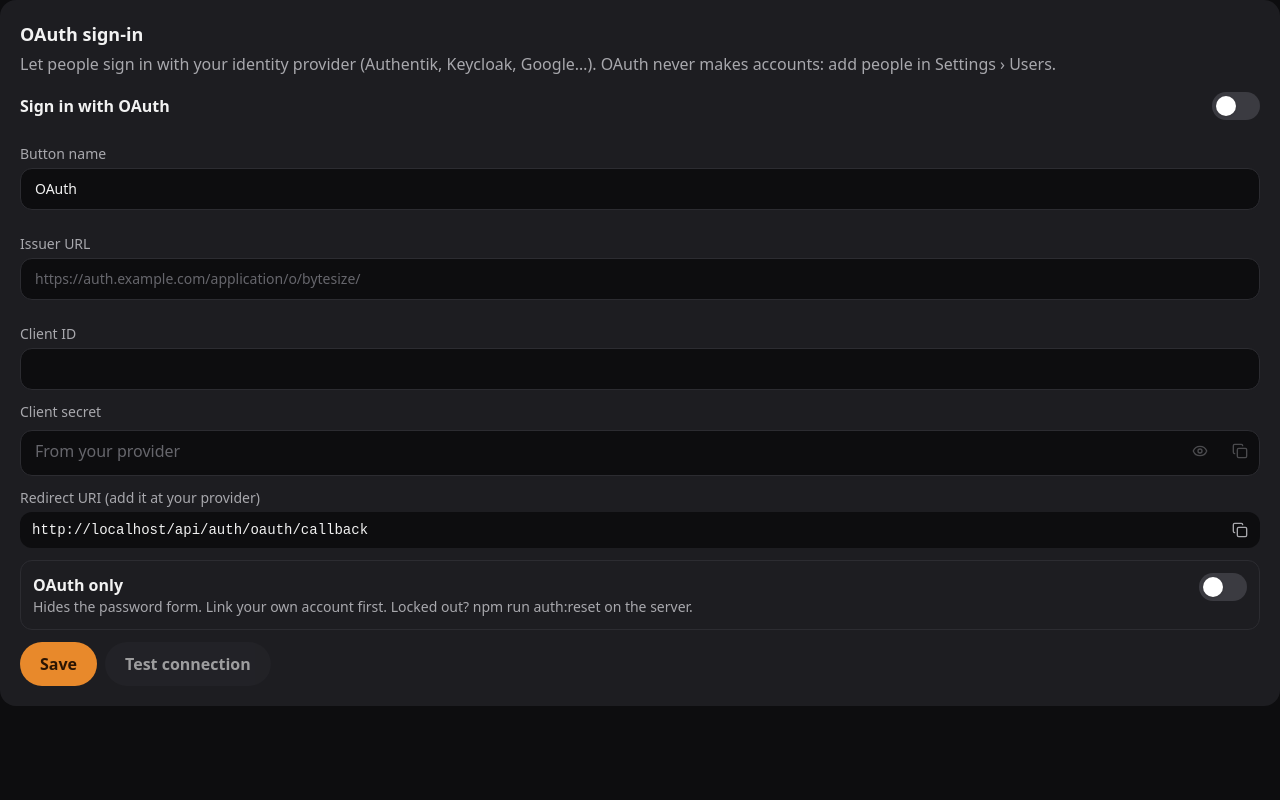
Test case: Settings › Security › OAuth sign-in (admin) › shows the redirect URI to copy, saves the provider, and tests the connection
The image size is (1280, 800).
Click the switch named "OAuth sign-in" at coordinates (1236, 106), box [1212,92,1260,120]
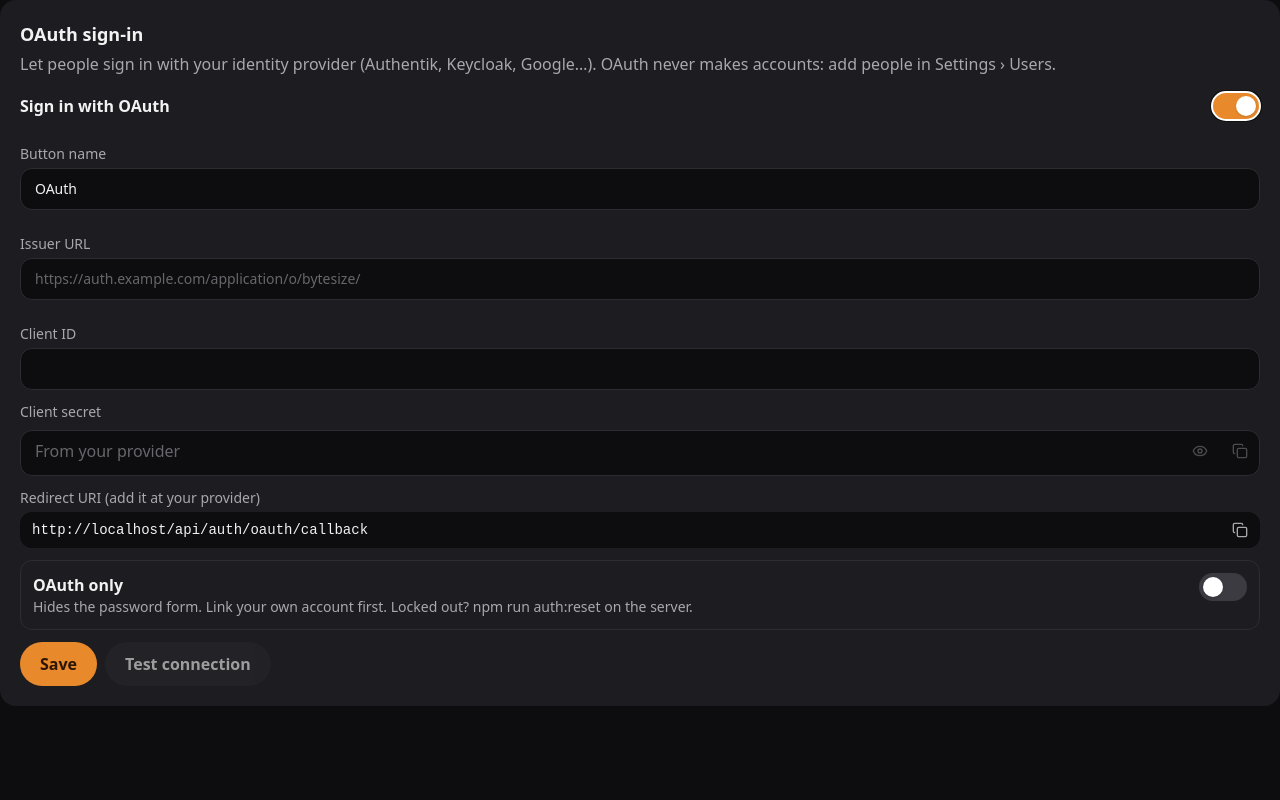
Replace the text in the field labelled "Button name" with "Authentik" at coordinates (640, 189), box [20,168,1260,210]
Type "https://auth.lan/application/o/bytesize/" into the field labelled "Issuer URL" at coordinates (640, 279), box [20,258,1260,300]
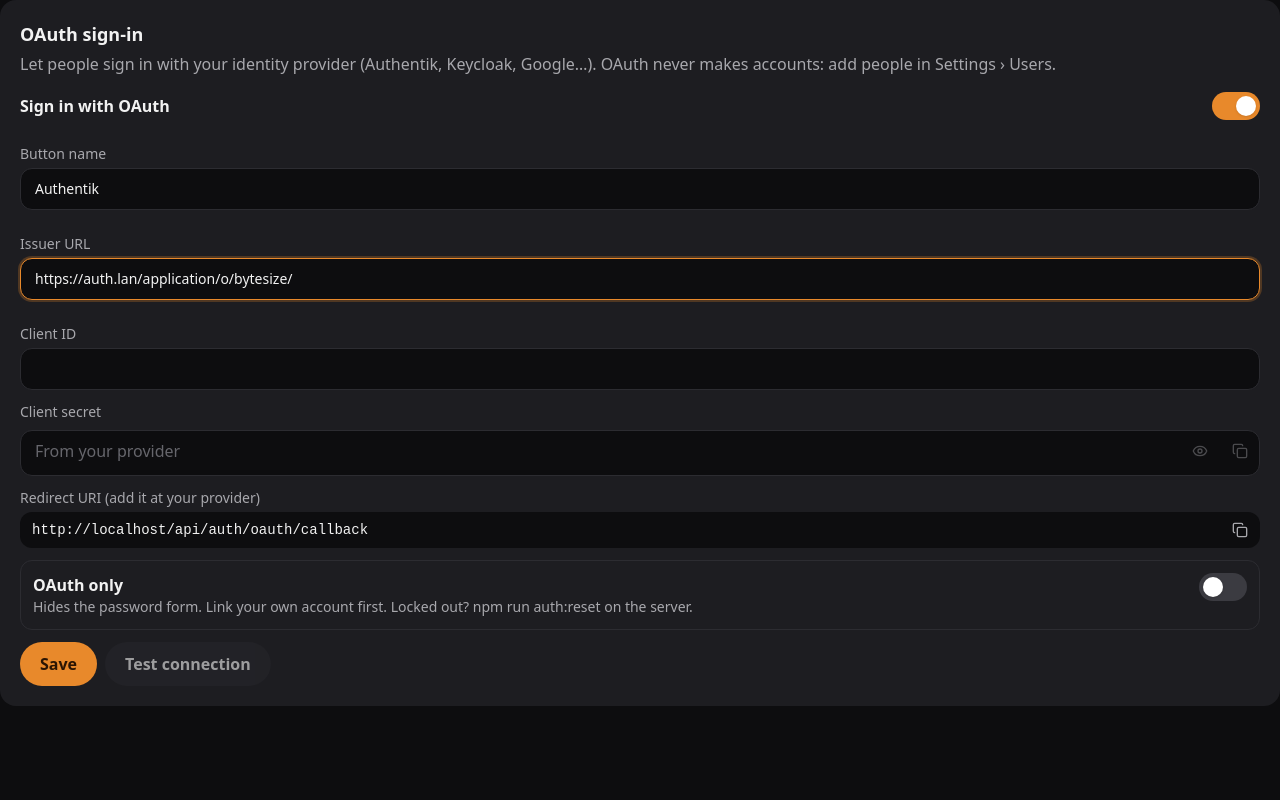
Type "bs-client" into the field labelled "Client ID" at coordinates (640, 369), box [20,348,1260,390]
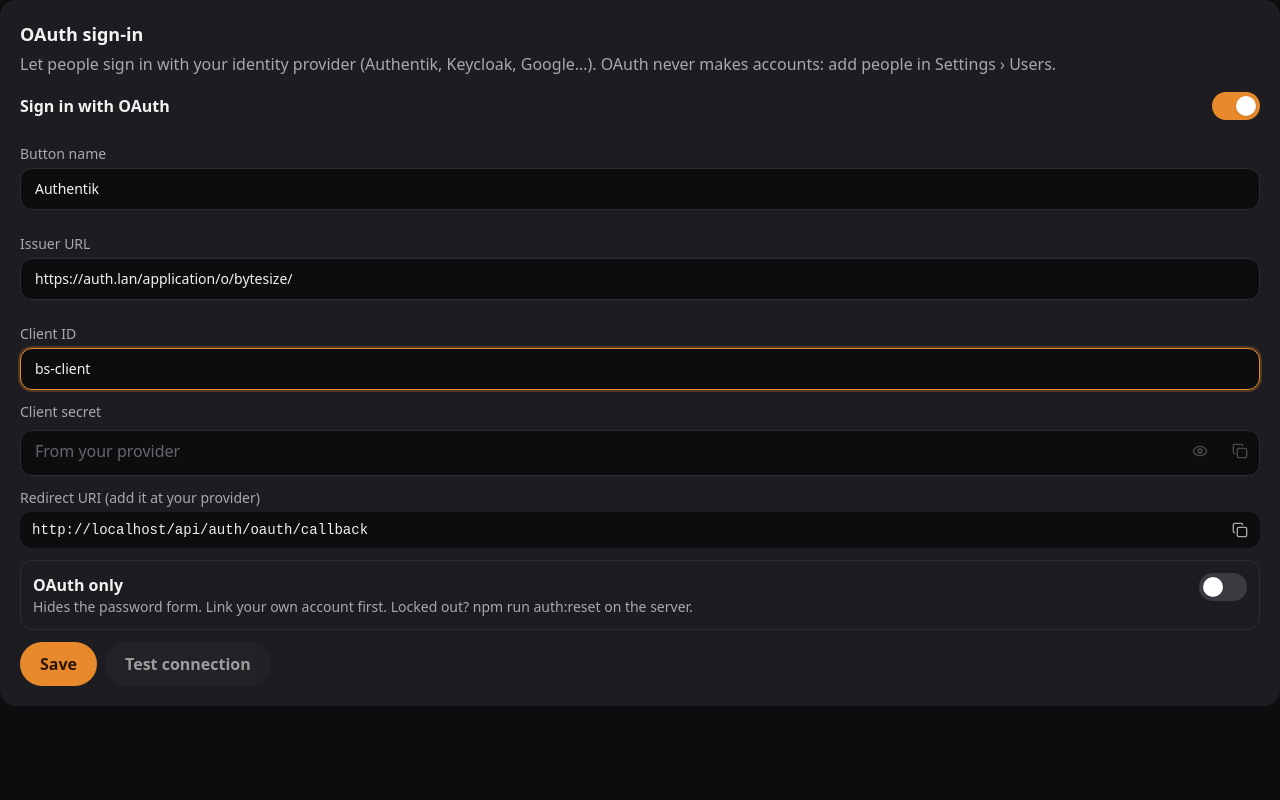
Type "bs-secret" into the password field labelled "Client secret" at coordinates (640, 453), box [20,430,1260,476]
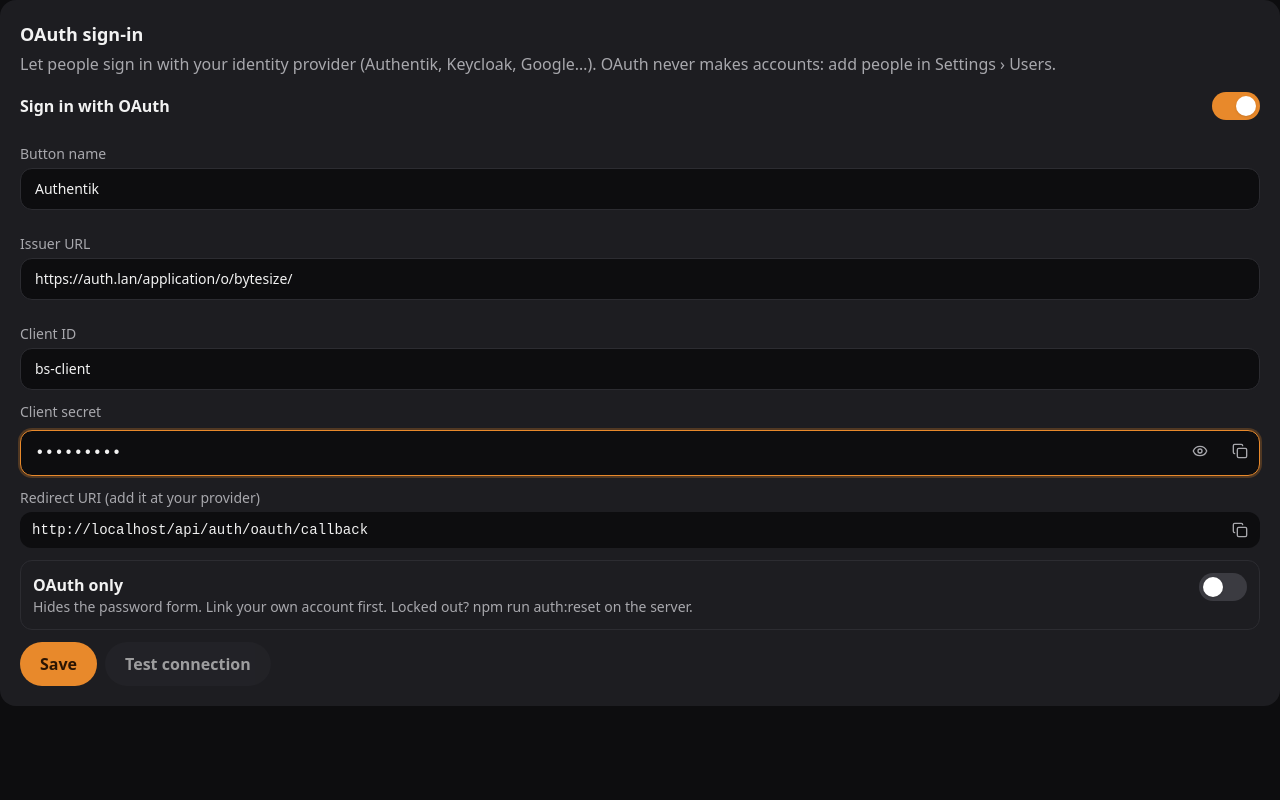
Click the button "Save" at coordinates (58, 664), box [20,642,97,686]
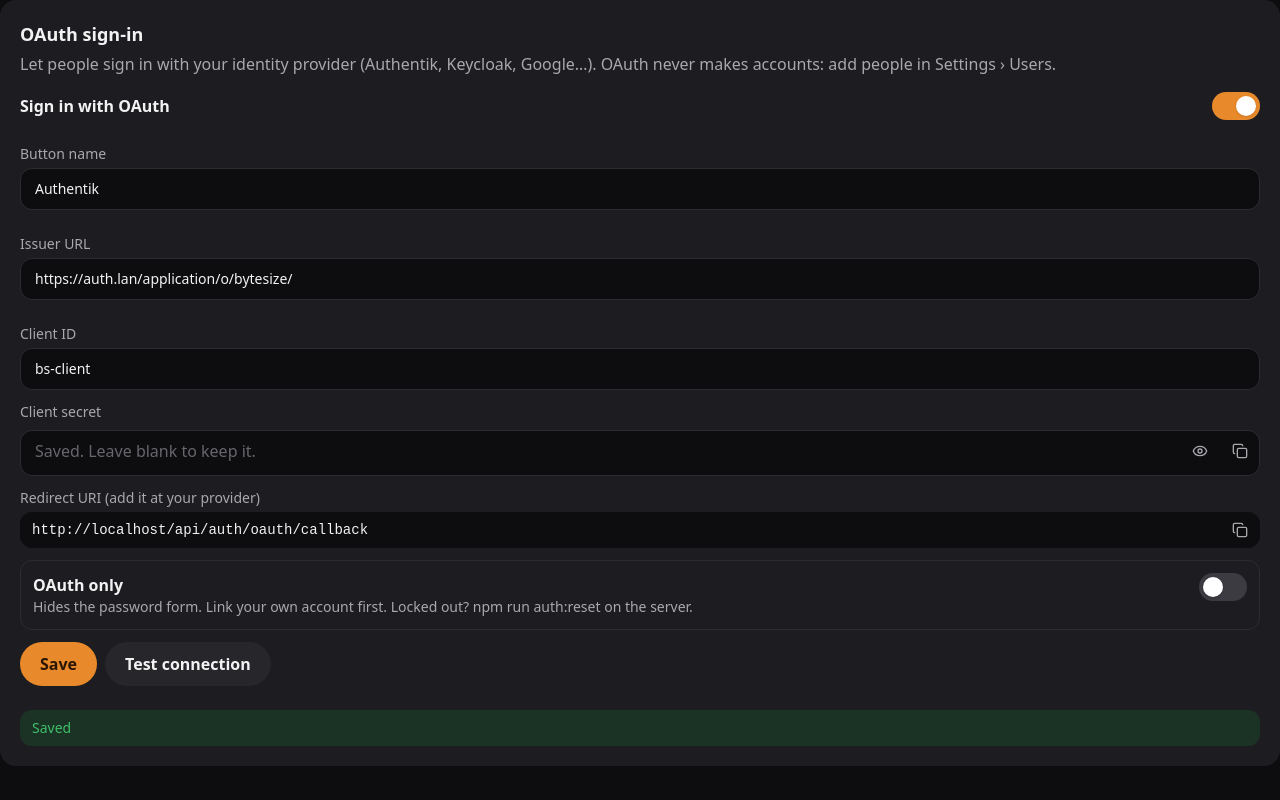
Check: the text "Saved" is shown, box [20,710,1260,746]
Check: the password field labelled "Client secret" is empty, box [20,430,1260,476]
Click the button "Test connection" at coordinates (188, 664), box [105,642,271,686]
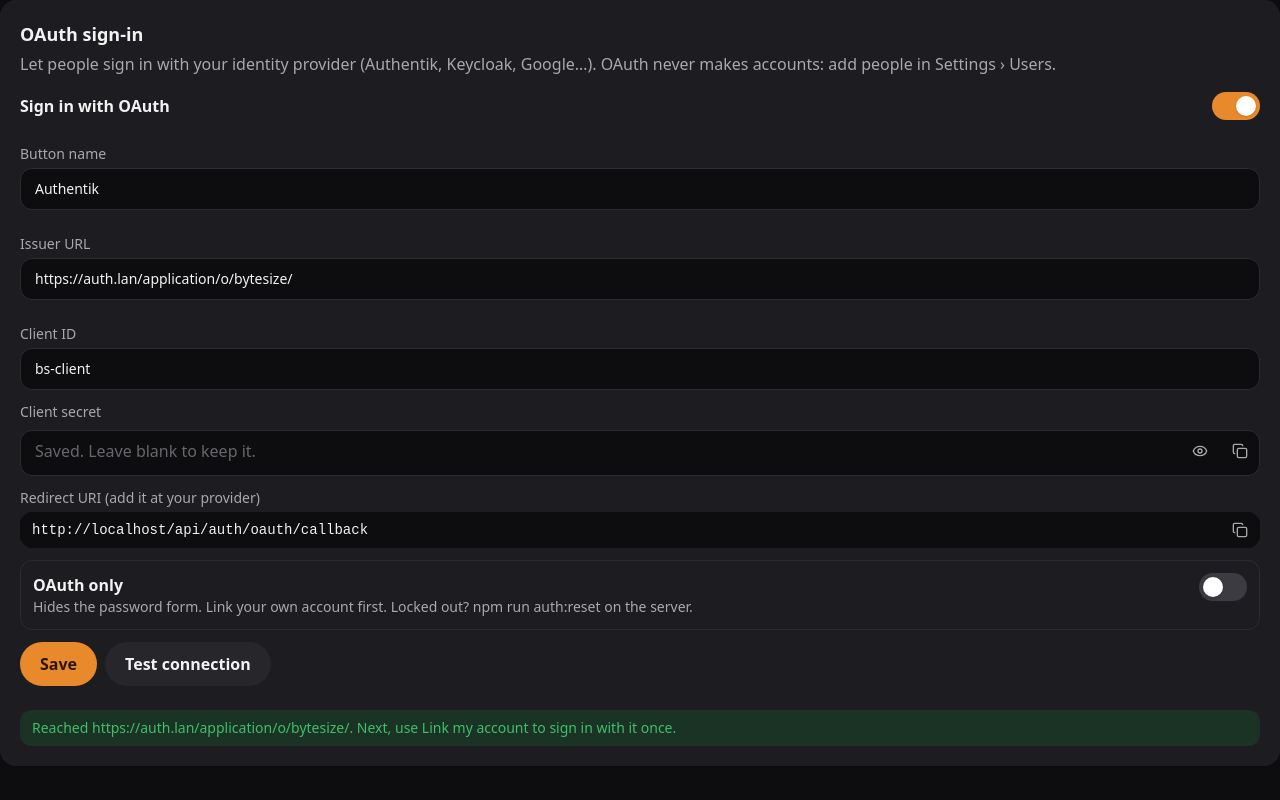
Check: the text "Reached https://auth.lan" is shown, box [32,718,676,737]
